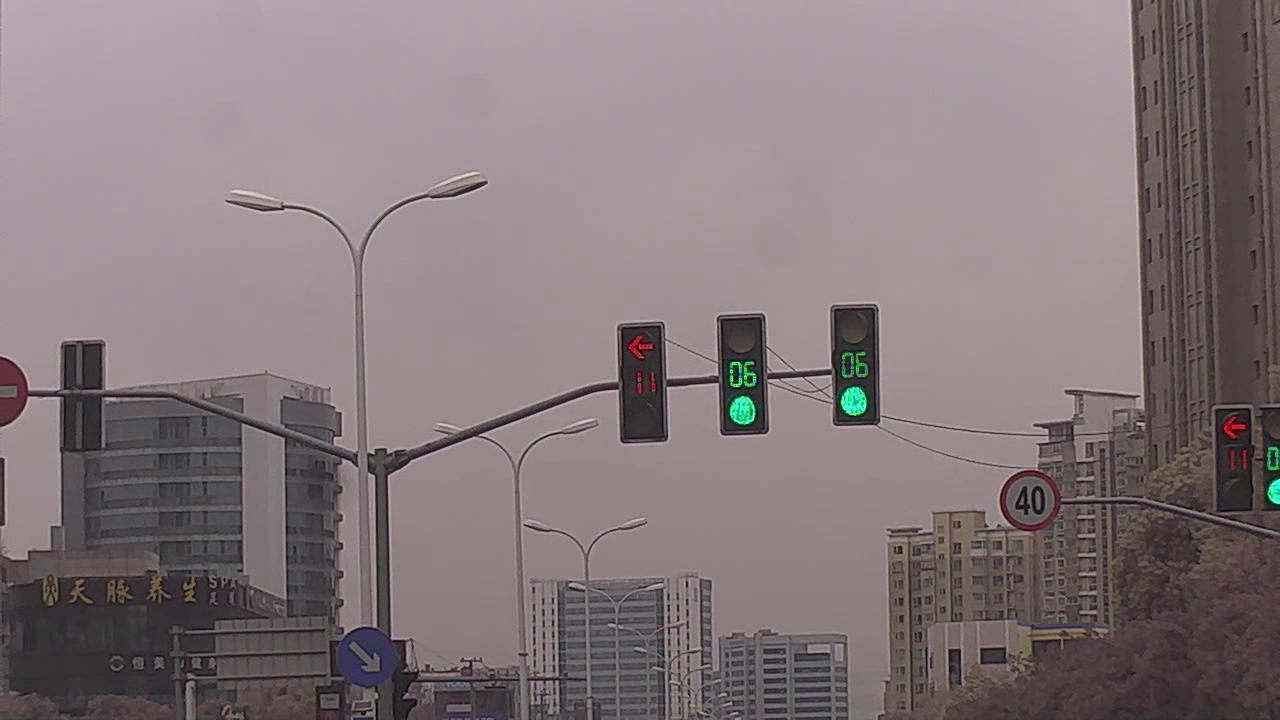traffic_light: (616, 320, 672, 444), (830, 304, 881, 426), (718, 316, 767, 436), (1212, 404, 1256, 514), (1262, 407, 1280, 509)
